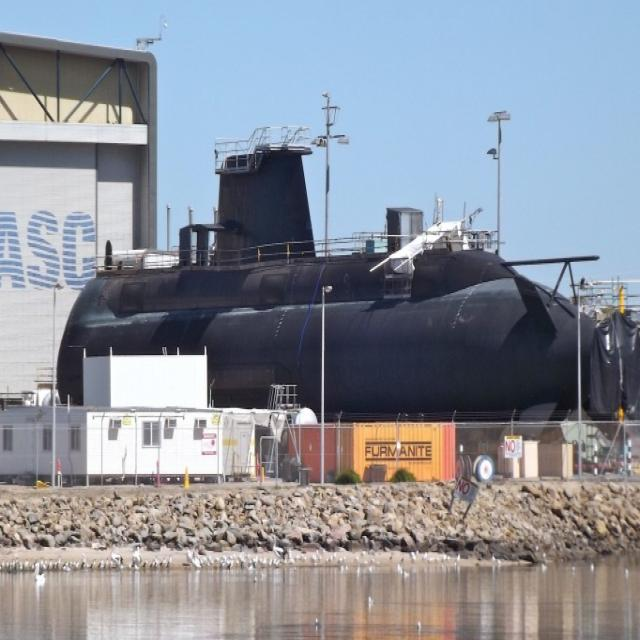submarine: (66, 134, 640, 427)
